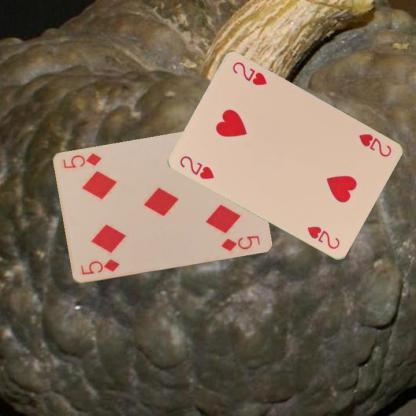2h: (177, 152, 216, 181), (356, 131, 394, 158)
5d: (78, 257, 120, 276)
